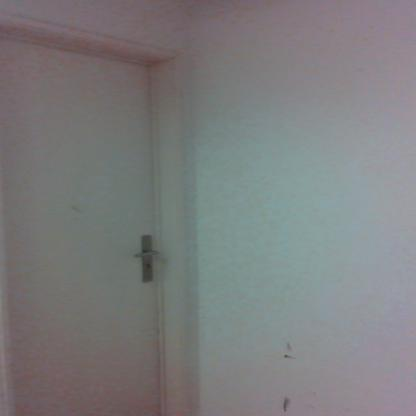door: (0, 39, 165, 415)
lever: (135, 248, 161, 262)
